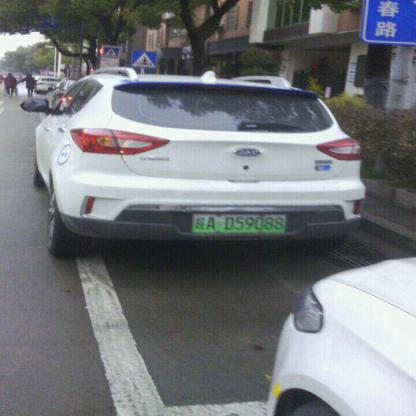lp: (191, 212, 287, 234)
